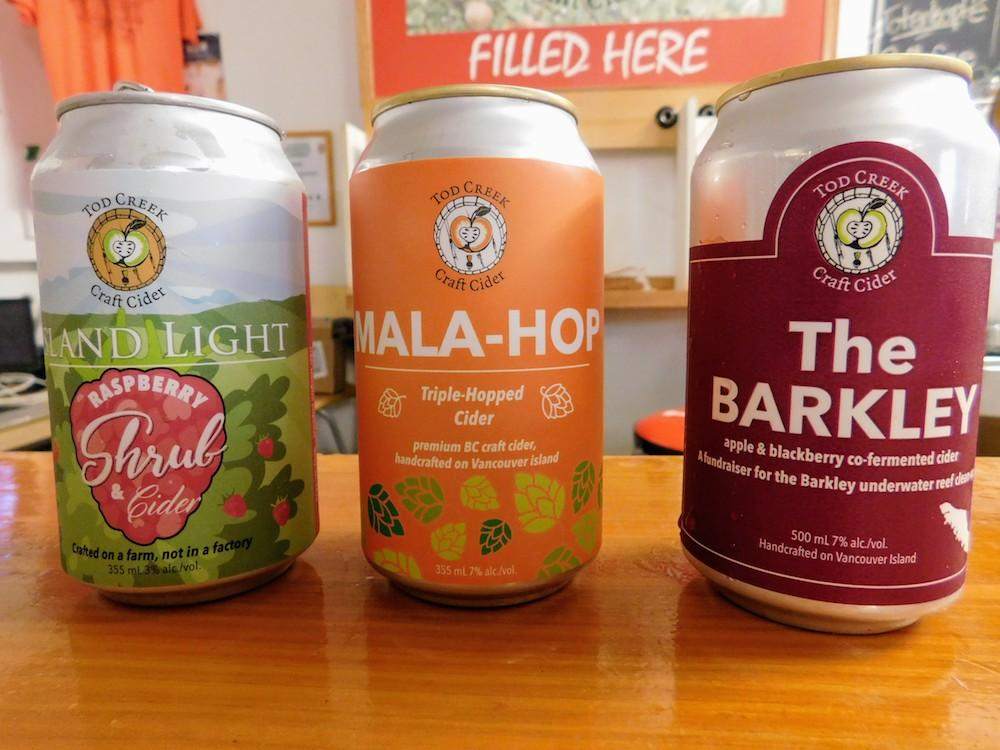metal: (686, 45, 1000, 641), (30, 85, 322, 604), (344, 85, 611, 607)
